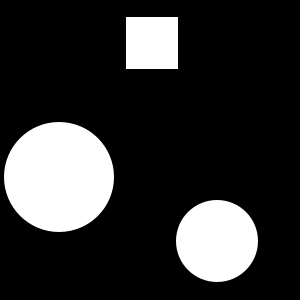circle: (126, 17, 178, 69)
rectangle: (4, 122, 114, 232), (176, 200, 258, 282)
